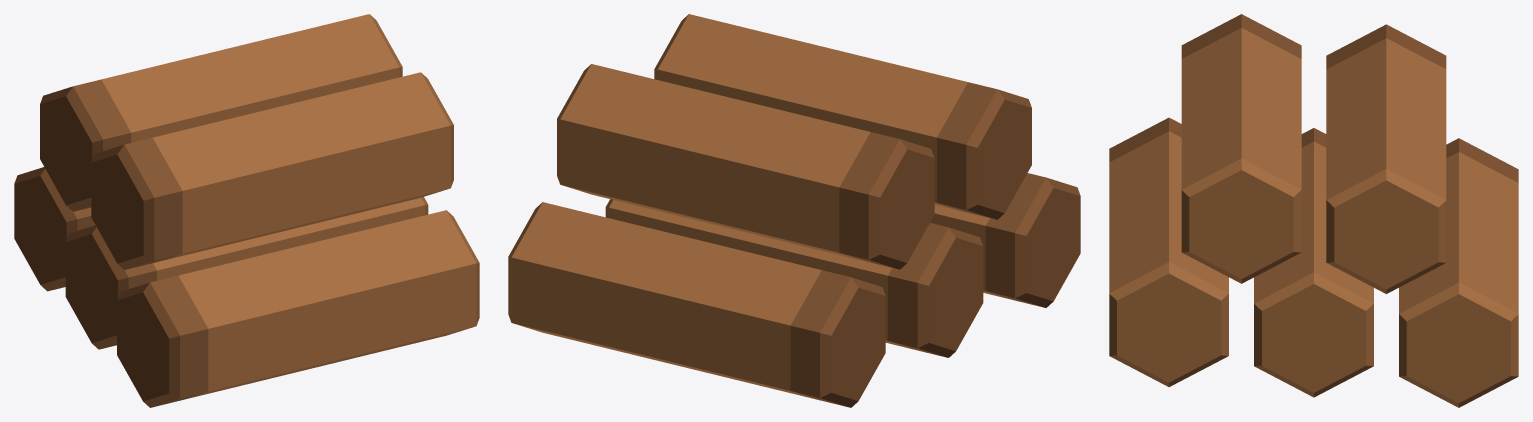
Rendered from item_shell_incendiary_c.obj.
3 renders of one model, left to right at view 1: azimuth 30°, elevation 25°; view 2: azimuth 150°, elevation 25°; view 3: azimuth 270°, elevation 25°, orthographic. The views are drawn at different scales.
Bounding box in the file's own units: 0.58 × 0.368 × 0.5838.
